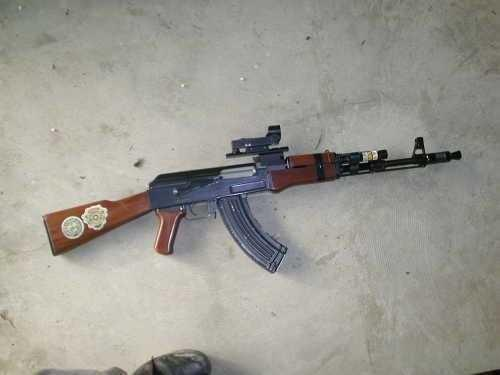heavyweapon: (25, 95, 477, 281)
